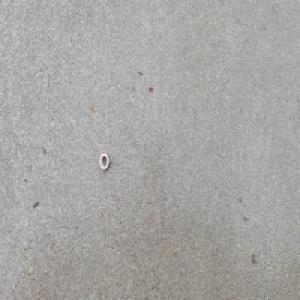Nut: (98, 152, 109, 170)
